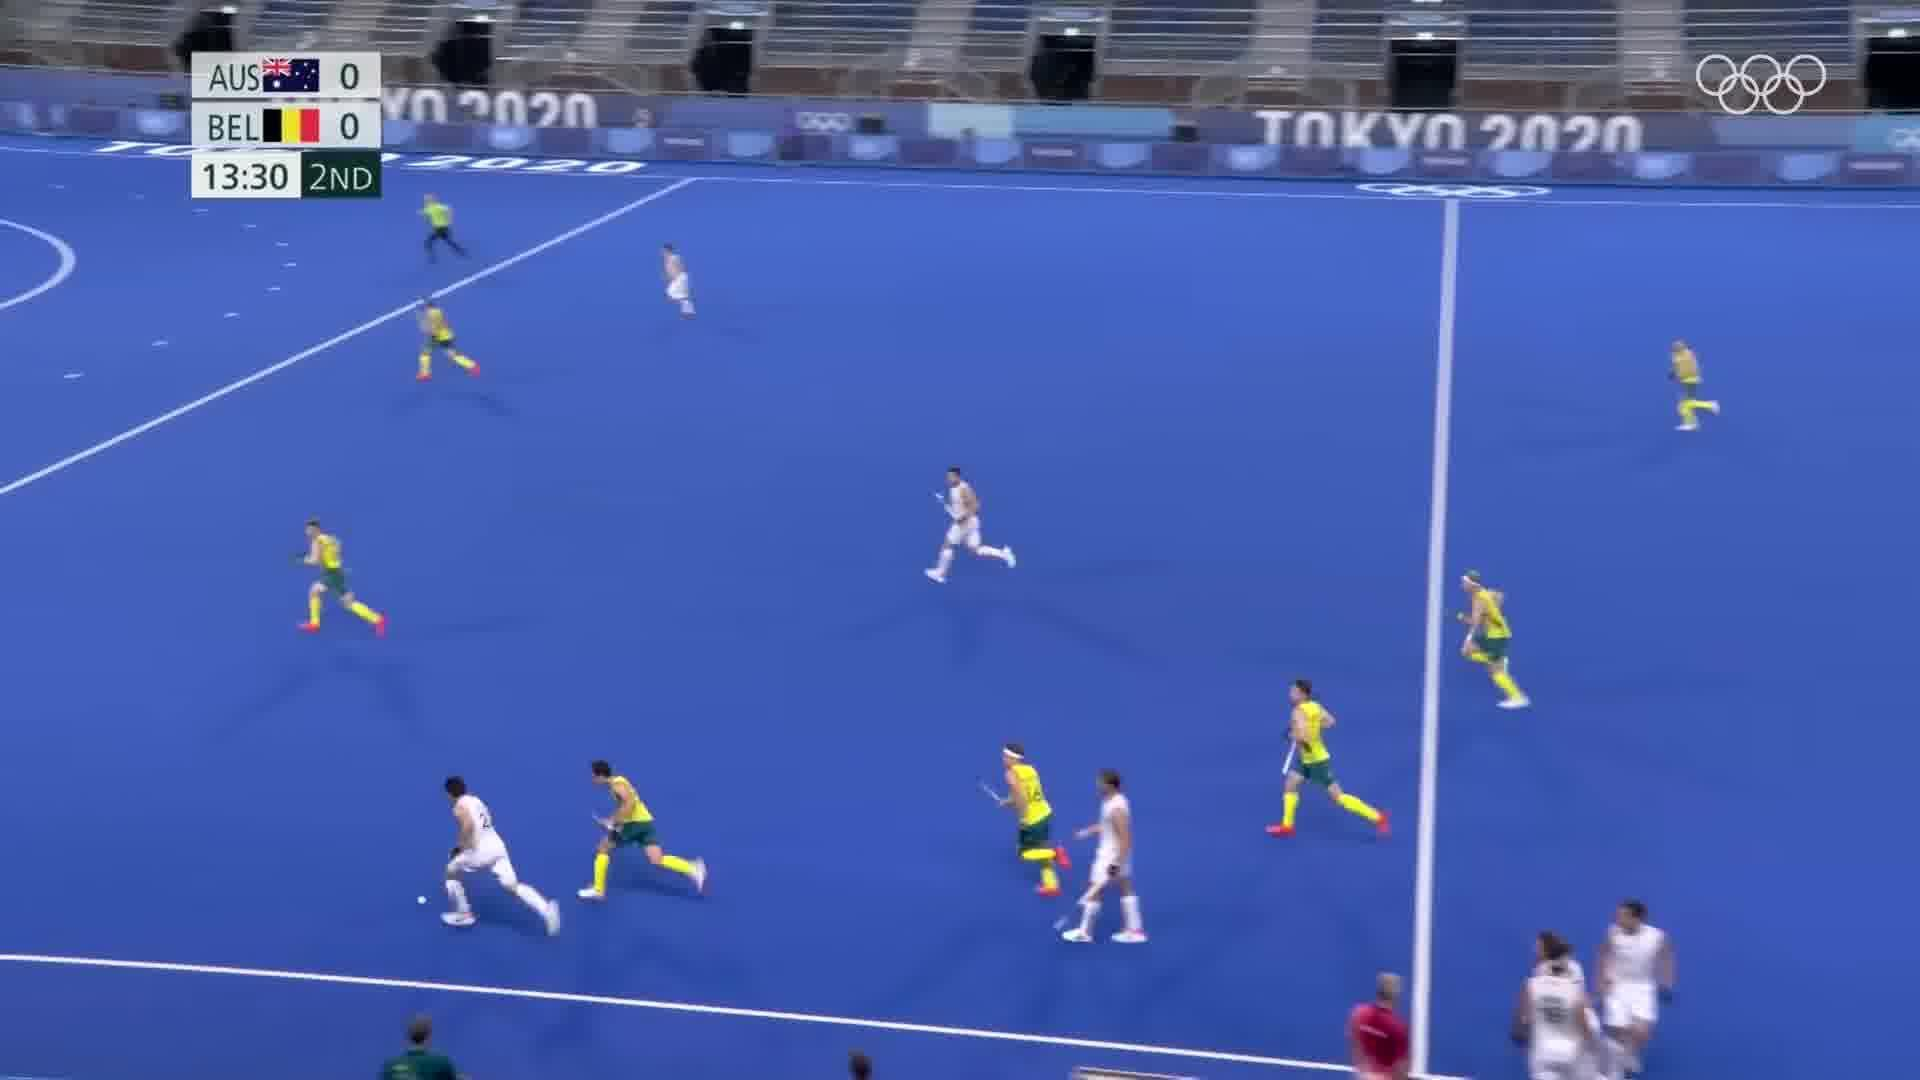ball: (407, 890, 436, 913)
